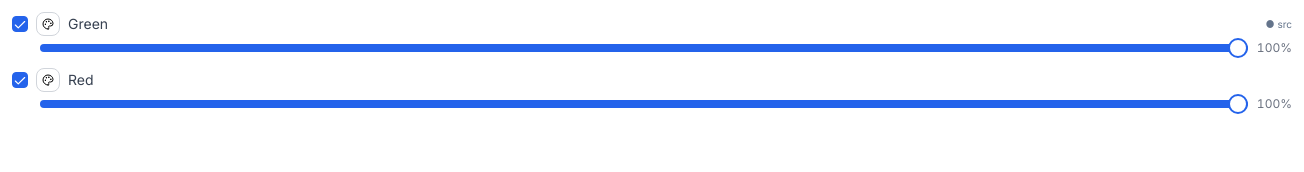
Scenario: ChannelOverlayList › rename mode › Escape cancels rename without calling the API
Double-click the button "Green" at (88, 24), box 68,14 -> 1230,34
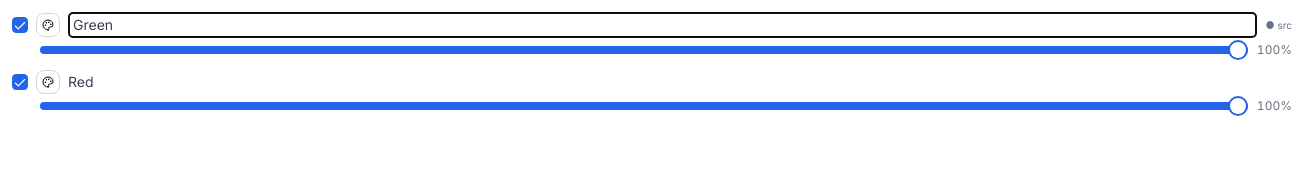
Type "something" into the field at (663, 25), box 68,12 -> 1258,38
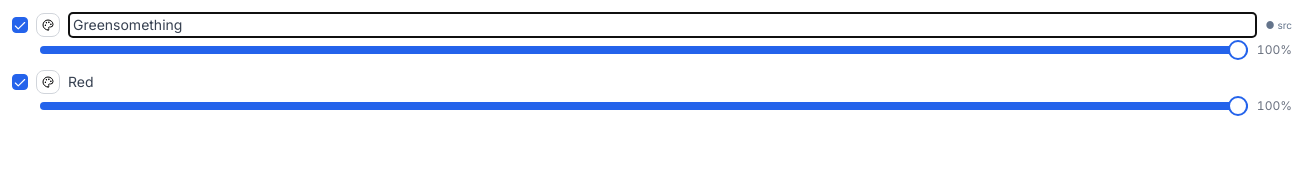
Press Escape
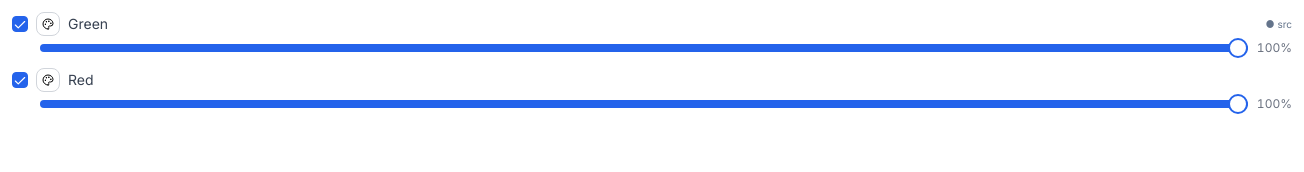
Now the field is gone
